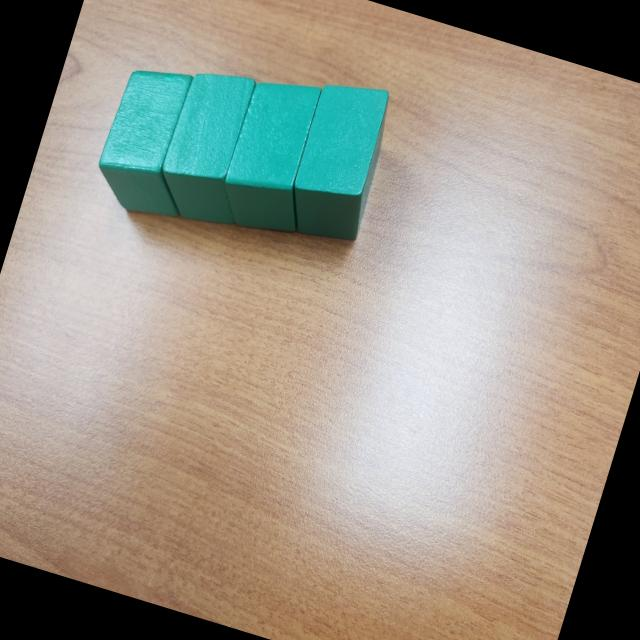green: (86, 55, 219, 226), (148, 61, 276, 235), (213, 67, 339, 243), (279, 72, 401, 250)
